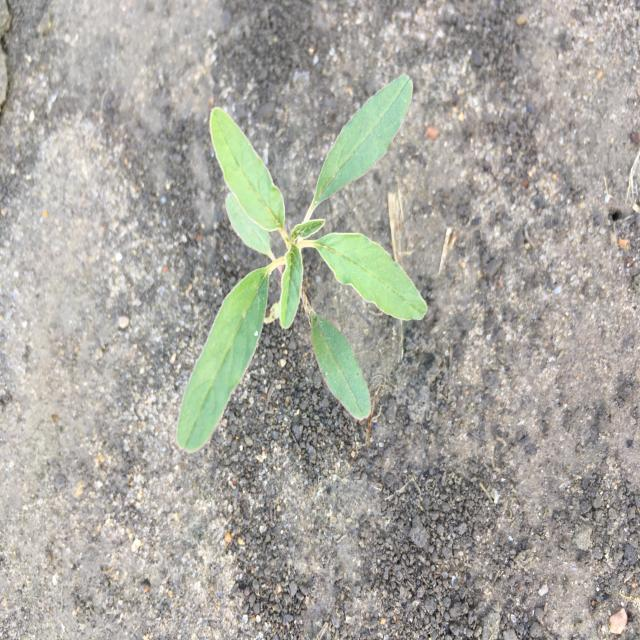Waterhemp: (174, 73, 430, 456)
